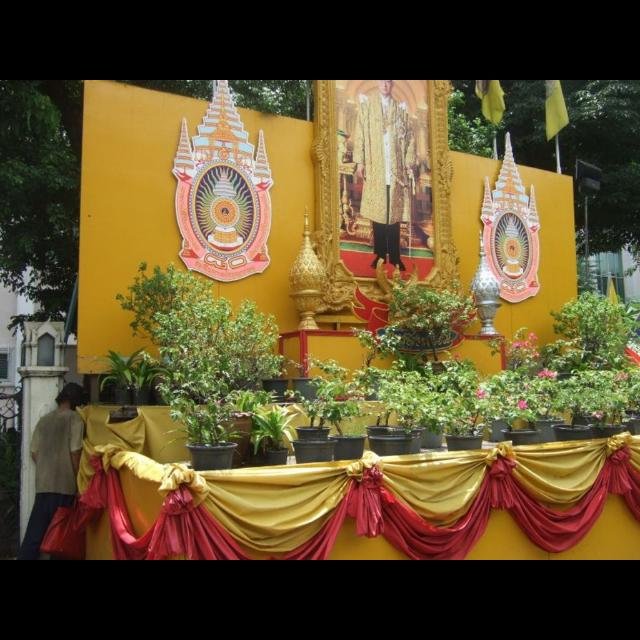Flower: (508, 331, 542, 362), (612, 370, 628, 388), (535, 372, 553, 380), (514, 398, 528, 406)
